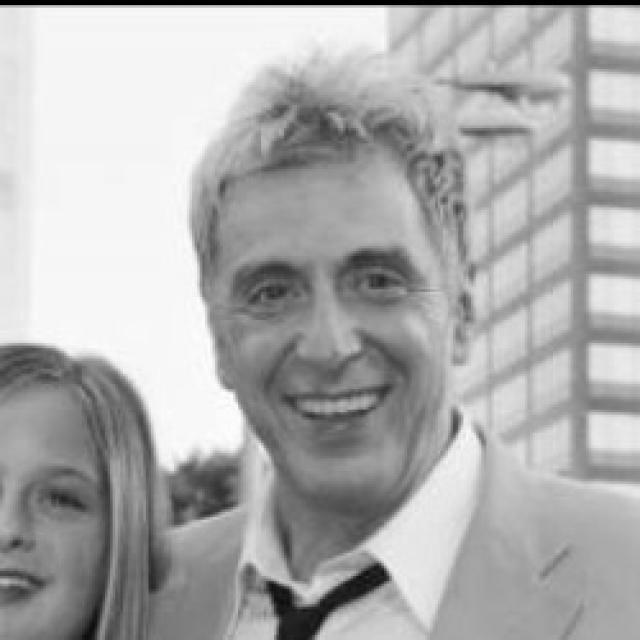real: (208, 152, 450, 500), (2, 340, 124, 640), (241, 262, 425, 317), (2, 466, 95, 526)
